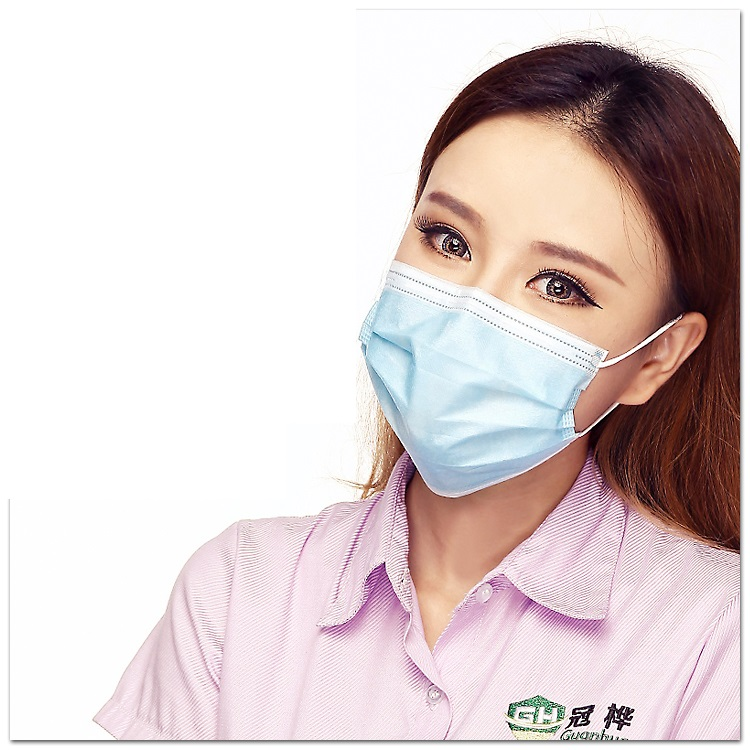face_mask: (372, 119, 644, 495)
